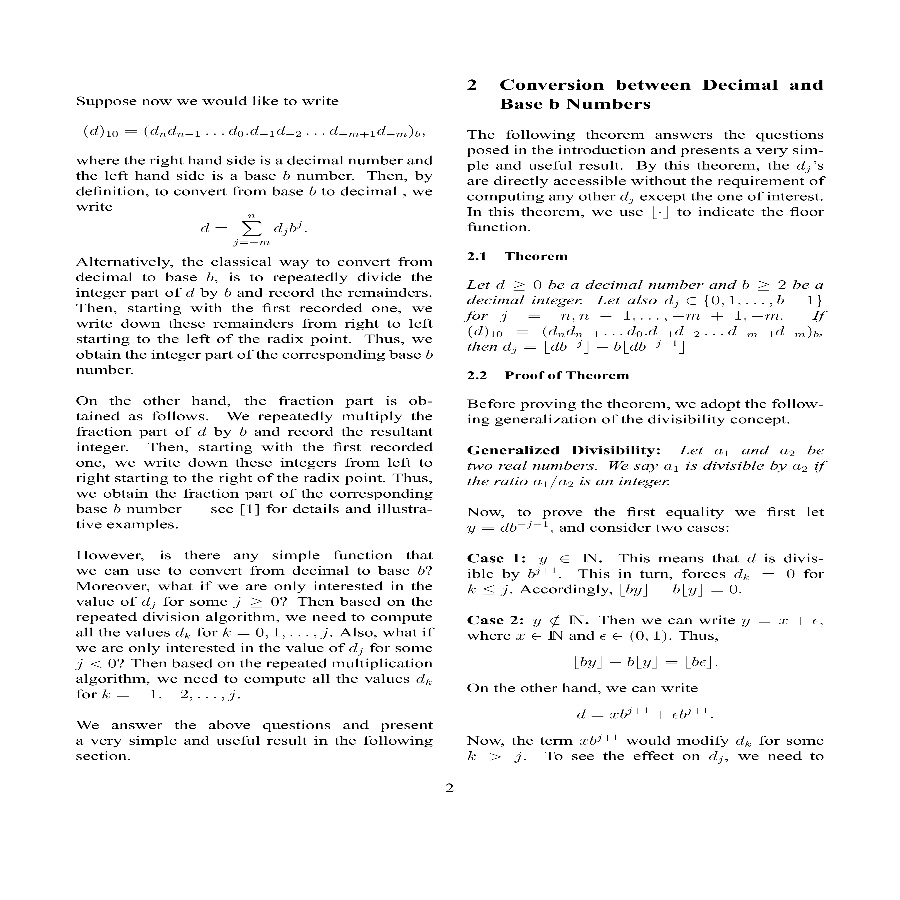eq: (78, 120, 424, 141), (196, 212, 303, 248), (568, 648, 713, 673), (575, 701, 709, 724)
